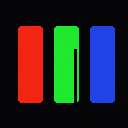4 line_v: (74, 49, 76, 107)
